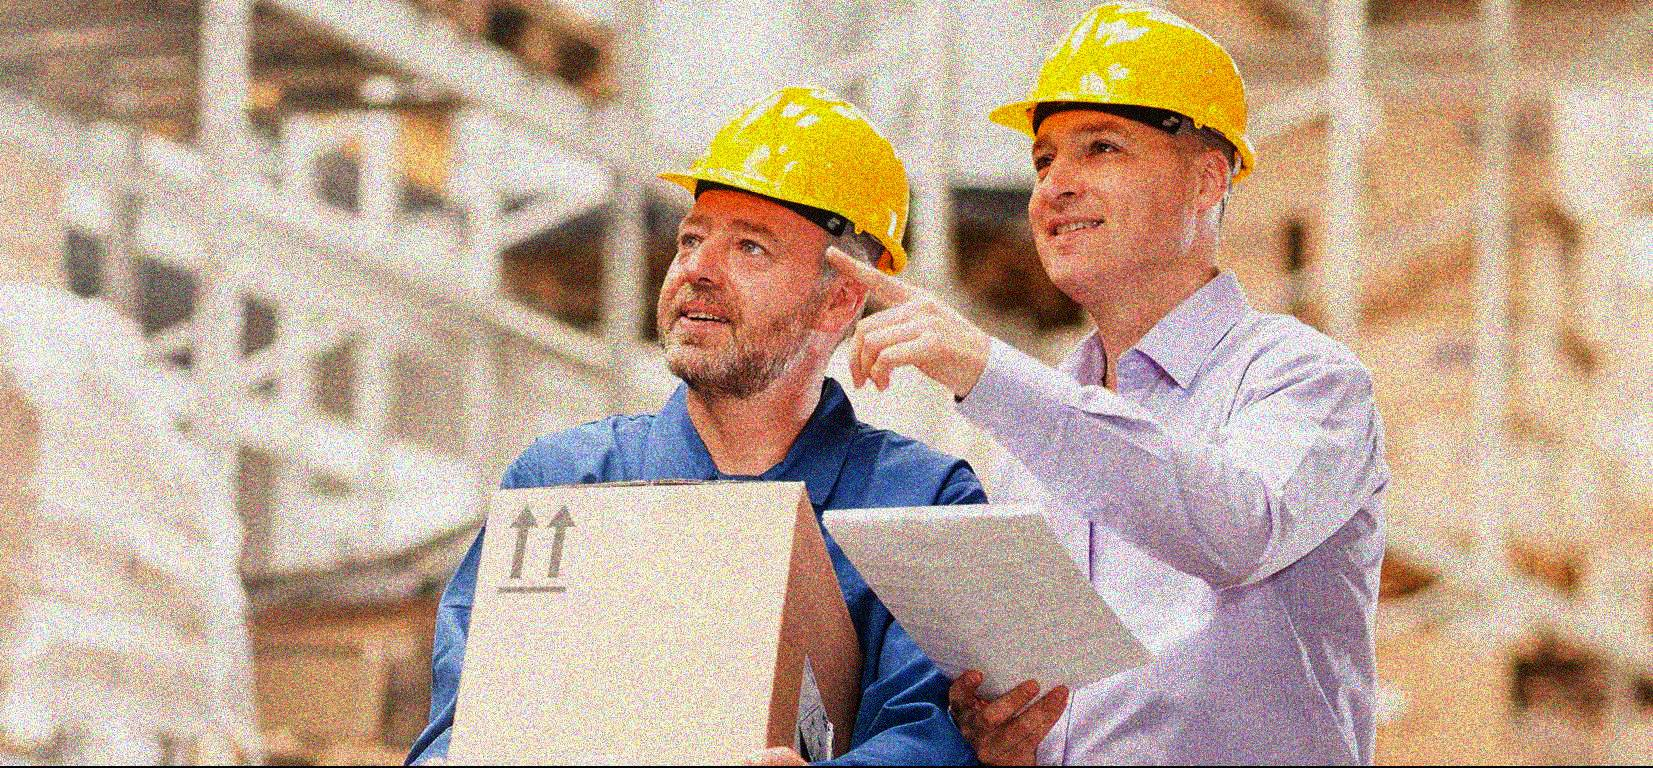helmet: (647, 88, 912, 398), (984, 1, 1256, 288)
